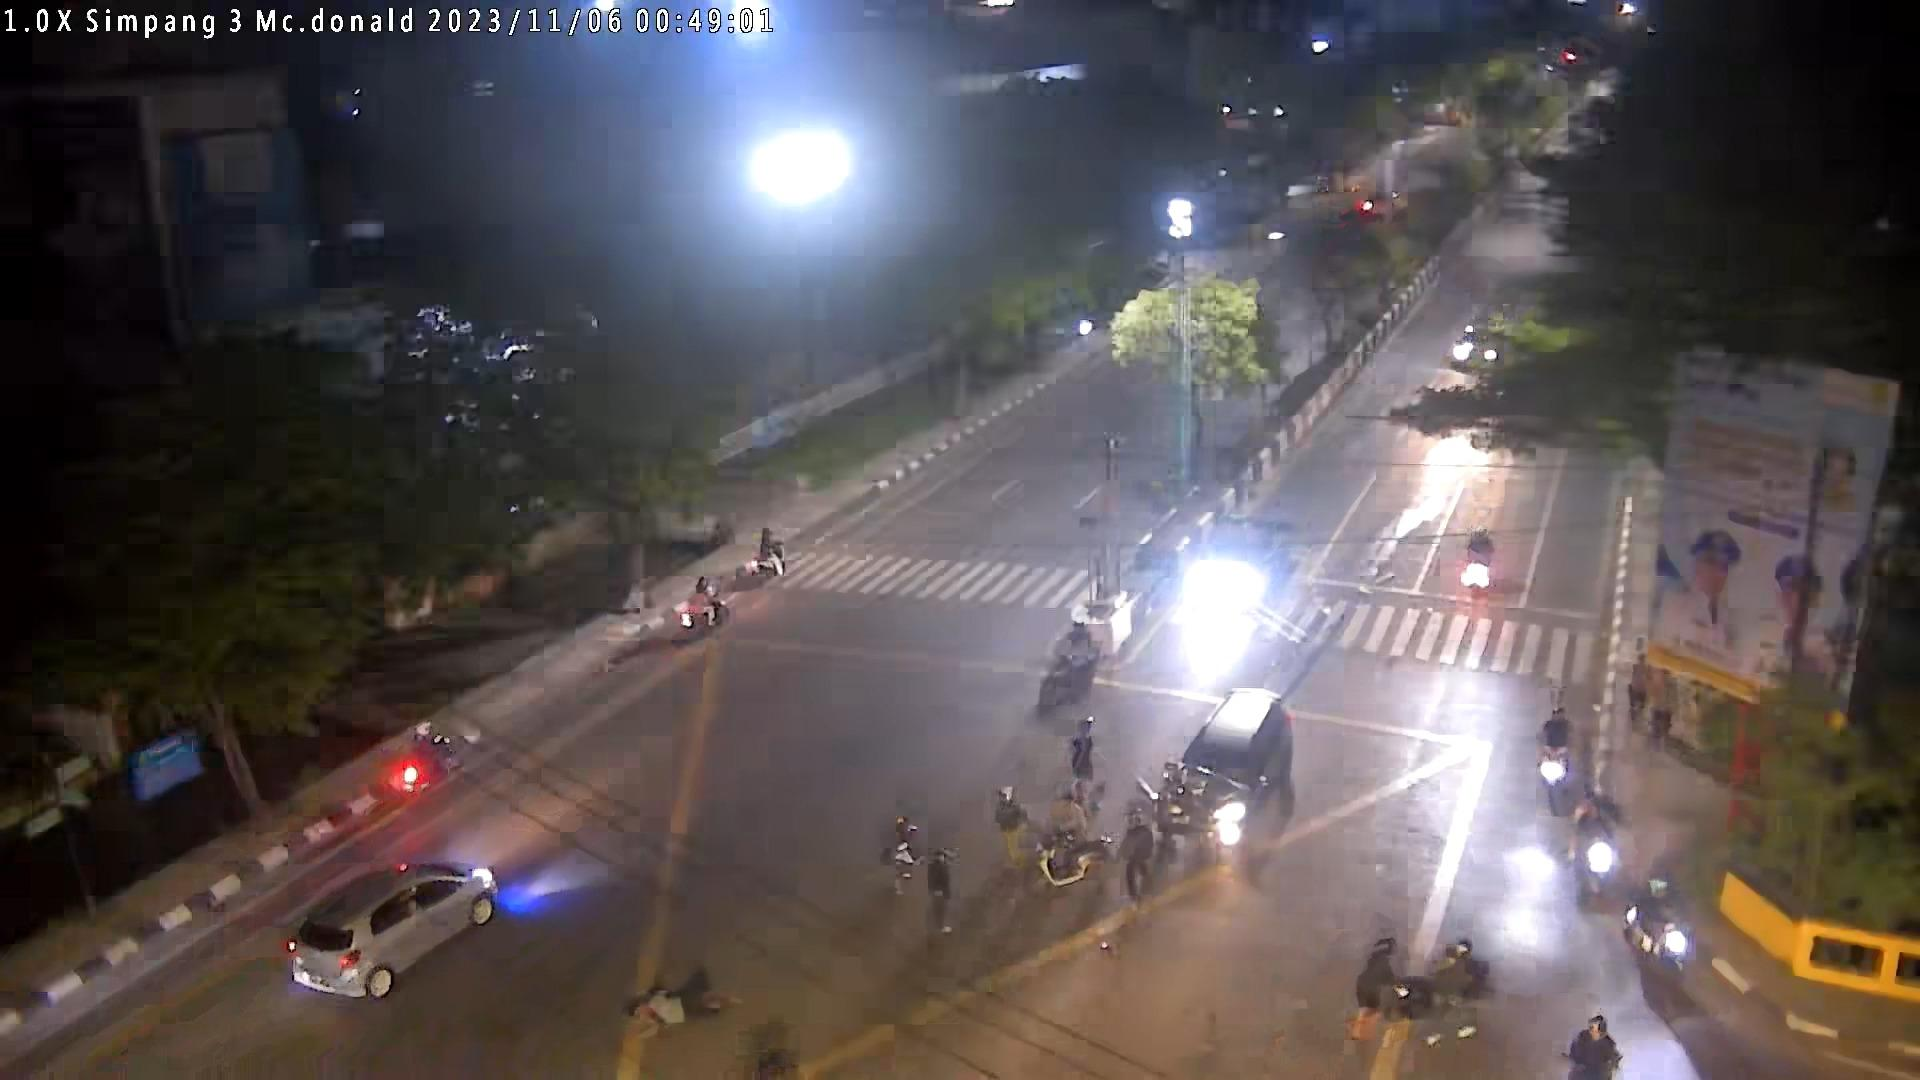accident: (626, 967, 740, 1043)
